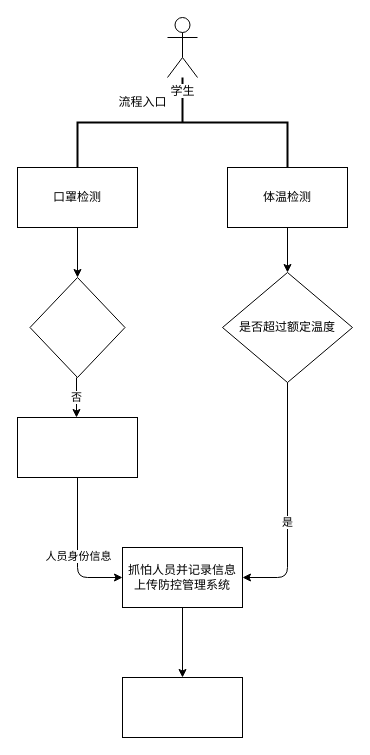
Some shapes in this 370 by 755 pixel diagram are drawn without their labels. The centre of each missing label's shape, as x and y in pixels:
人脸识别身份: the point at 77,447
是否佩戴口罩: the point at 77,327
管理员通过防控管理系统查看相关信息: the point at 182,707
